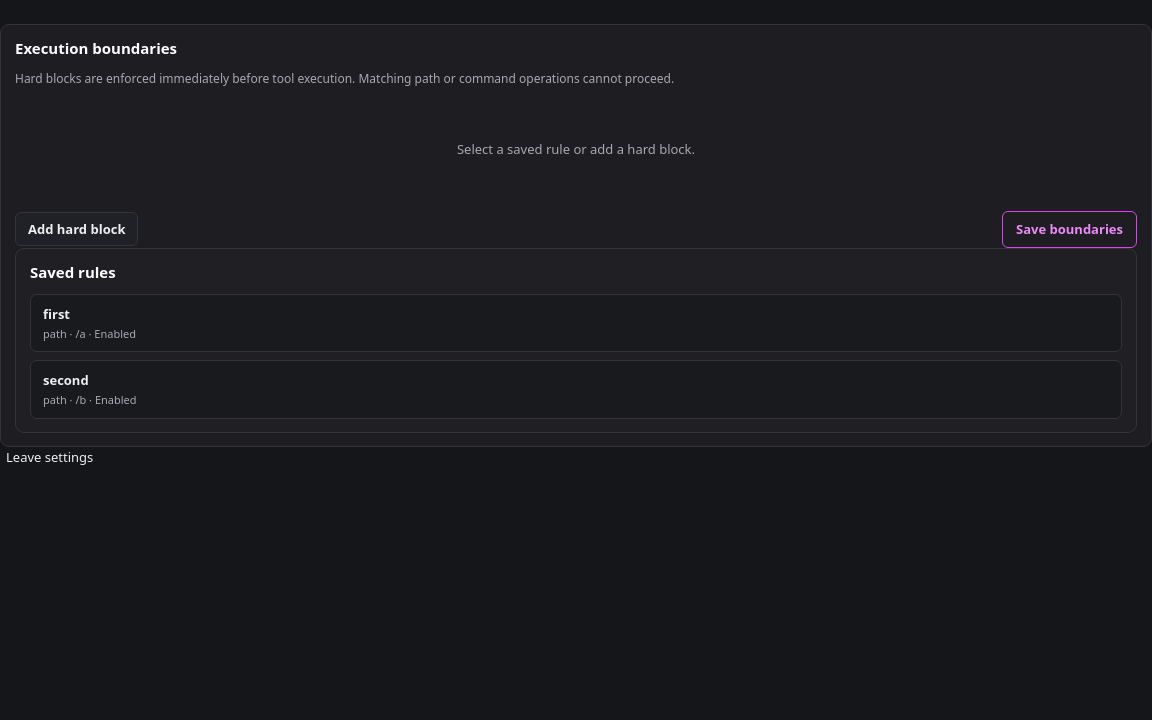
boundary item selection guards dirty rule edits
Click the button "first path · /a · Enabled".
click(115, 333)  # box left=43, top=305, right=1109, bottom=341
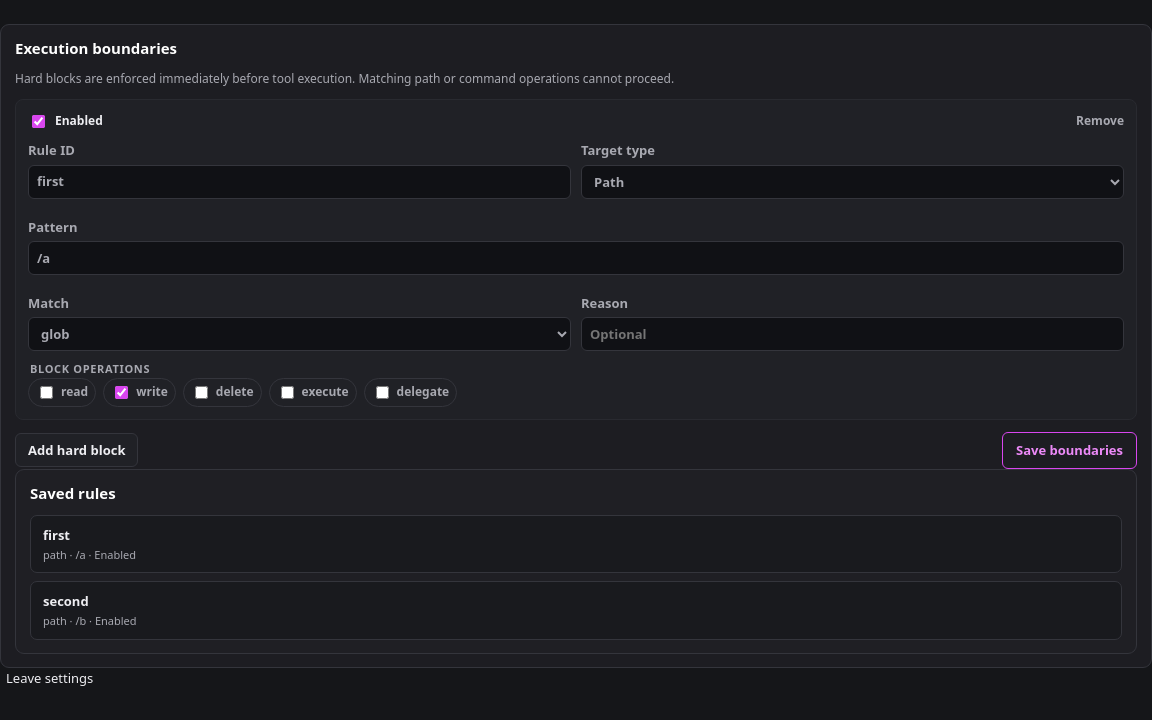
Replace the text in the field labelled "Rule ID" with "edited" at (300, 182), box left=28, top=165, right=571, bottom=199
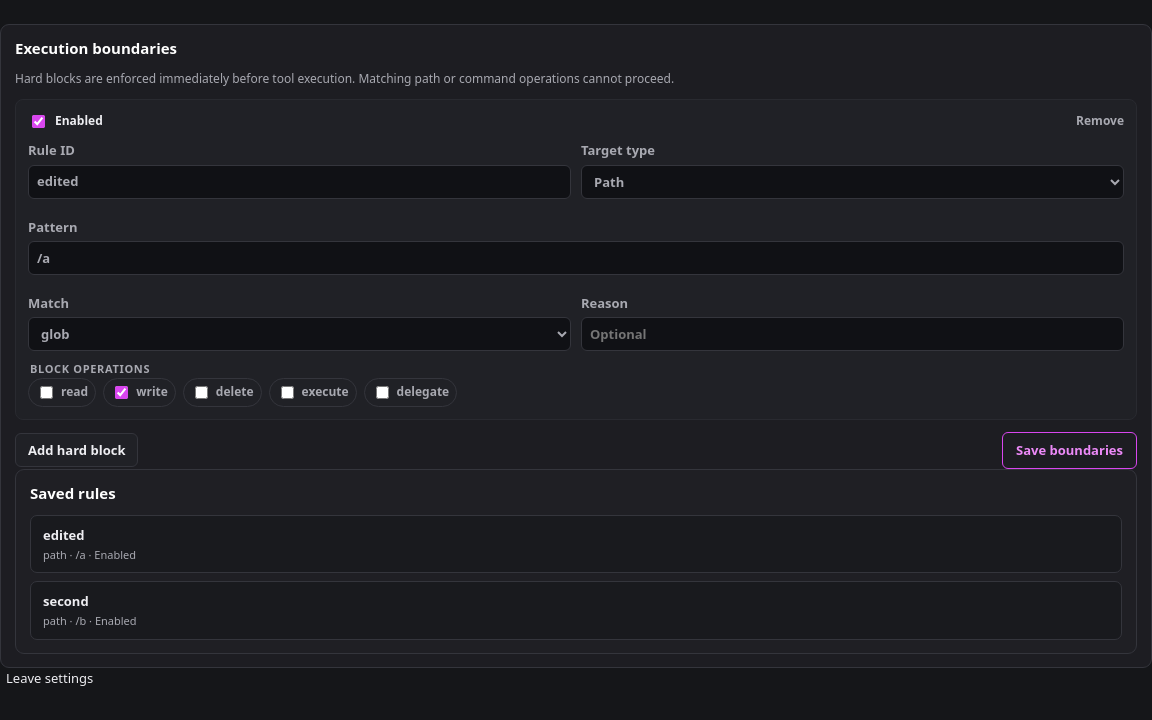
Click the button "second path · /b · Enabled".
click(66, 601)  # box left=43, top=592, right=1109, bottom=629
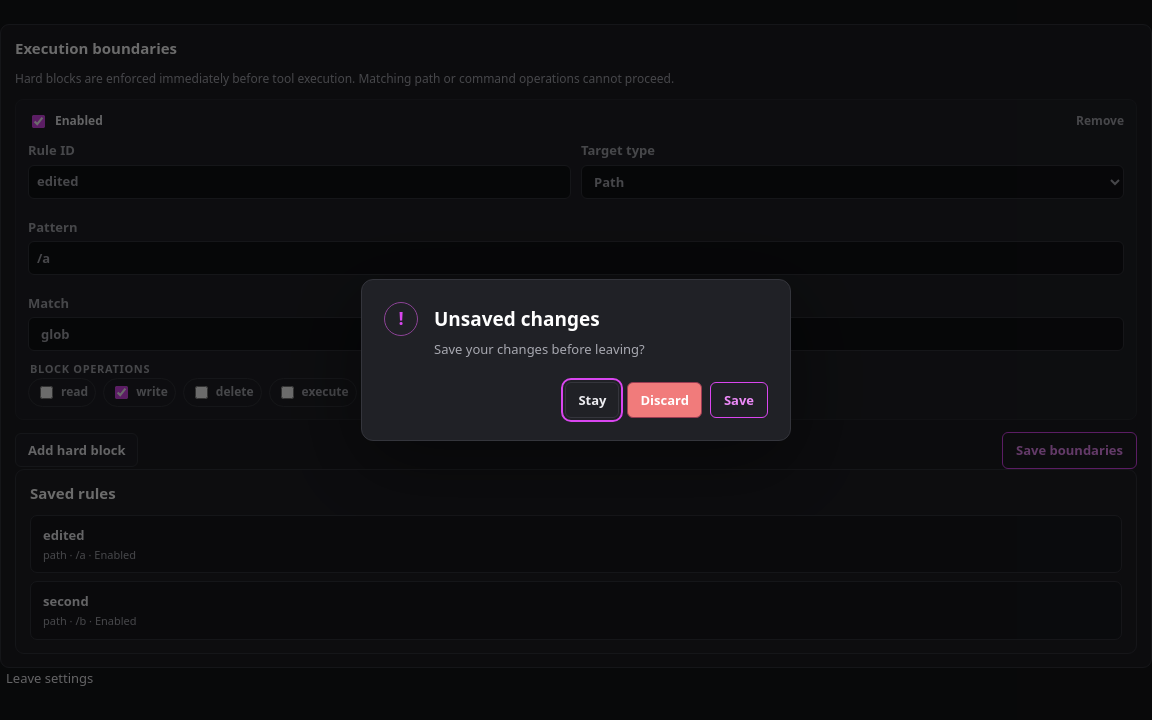
Result: the heading "Unsaved changes" is shown at left=434, top=306, right=600, bottom=332
Click the button "Discard".
click(665, 400)  # box left=627, top=382, right=702, bottom=418
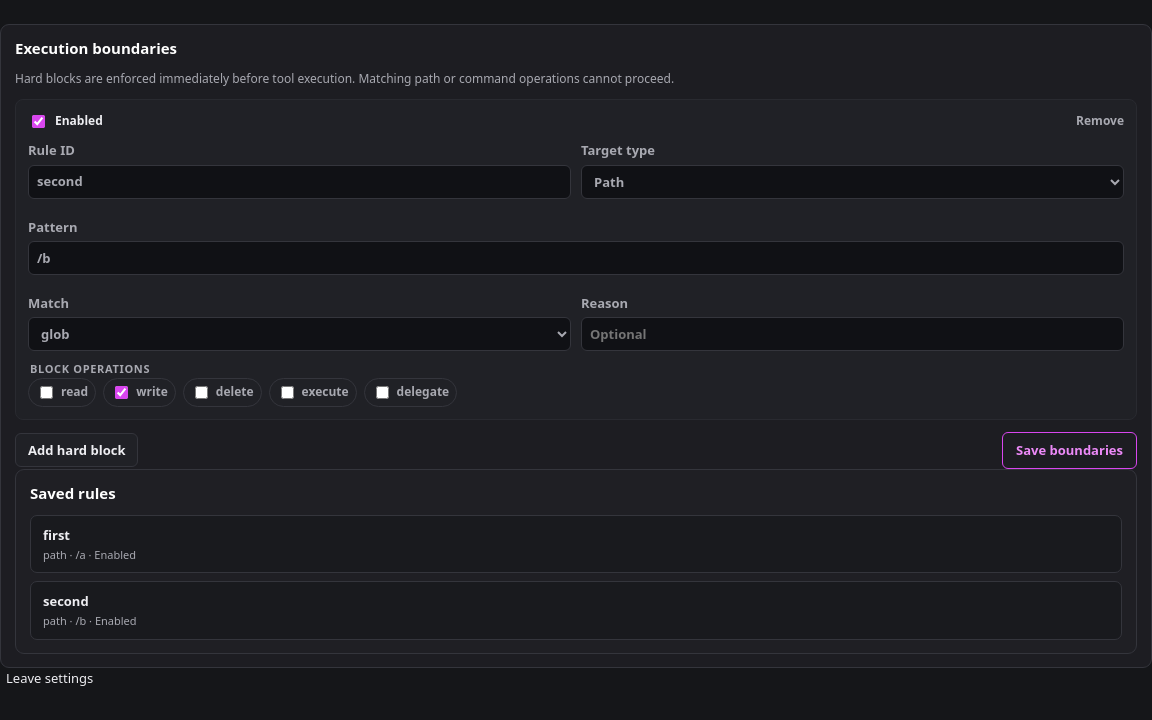
Result: the field labelled "Rule ID" holds "second" at left=28, top=165, right=571, bottom=199
